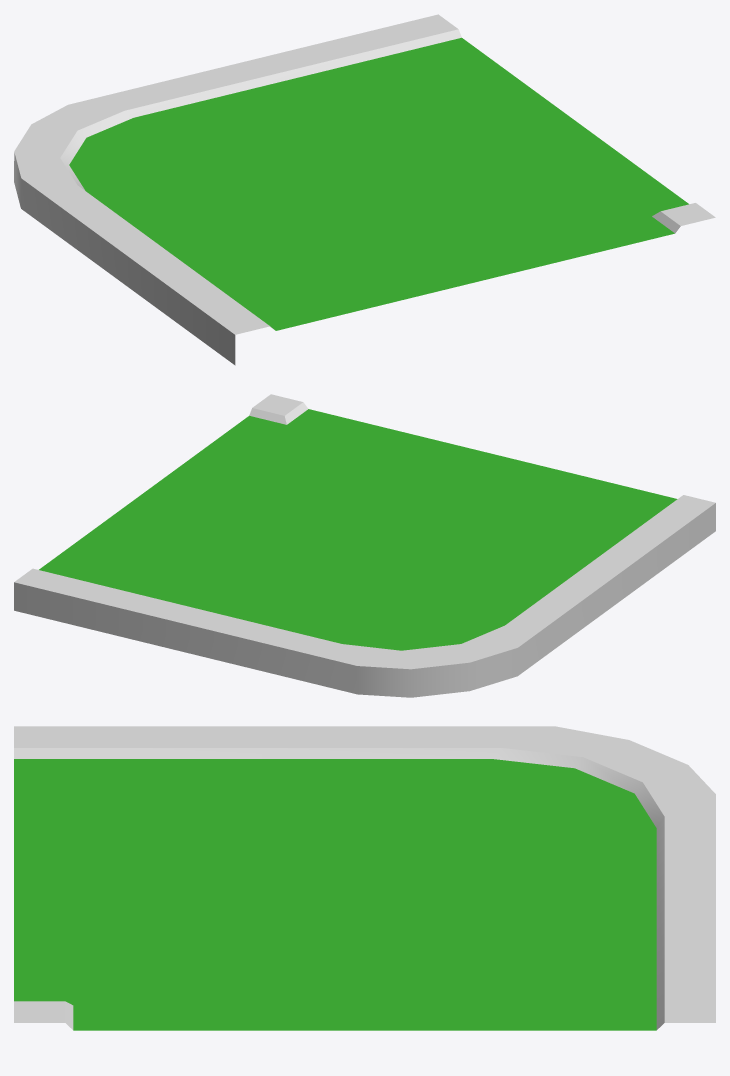
File: GrassBed_1_B_5.fbx
3 views of the same model, one above another, from view 1: azimuth 30°, elevation 25°; view 2: azimuth 150°, elevation 25°; view 3: azimuth 270°, elevation 25° (orthographic). The views are drawn at different scales.
Parts seen in each view (by area): view 1: GrassBed_1_B_5; view 2: GrassBed_1_B_5; view 3: GrassBed_1_B_5.
Part boxes in pixels (box(x1,y1,x2,y2)): GrassBed_1_B_5: box(14, 14, 715, 365); GrassBed_1_B_5: box(14, 394, 715, 697); GrassBed_1_B_5: box(14, 726, 715, 1030).
Size of the model in its own units: 120 by 7.32 by 120.
